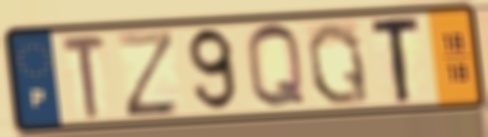9: (184, 26, 241, 116)
Q: (243, 21, 310, 113), (304, 19, 373, 108)
T: (369, 13, 424, 107), (58, 33, 110, 121)
Z: (113, 27, 183, 121)
